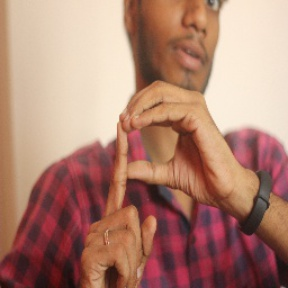P: (80, 79, 221, 263)
